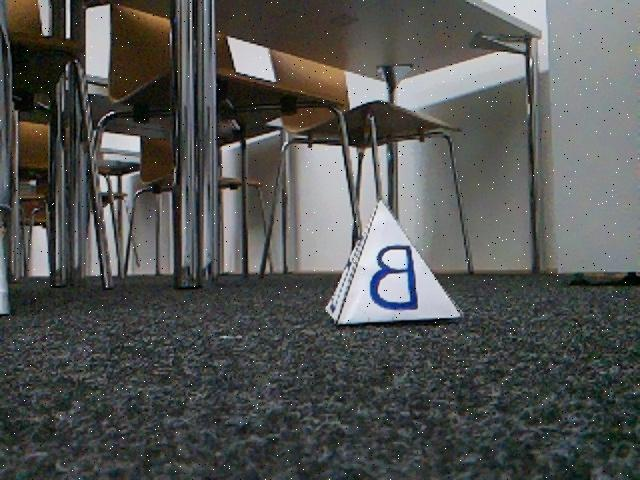B: (321, 199, 460, 324)
